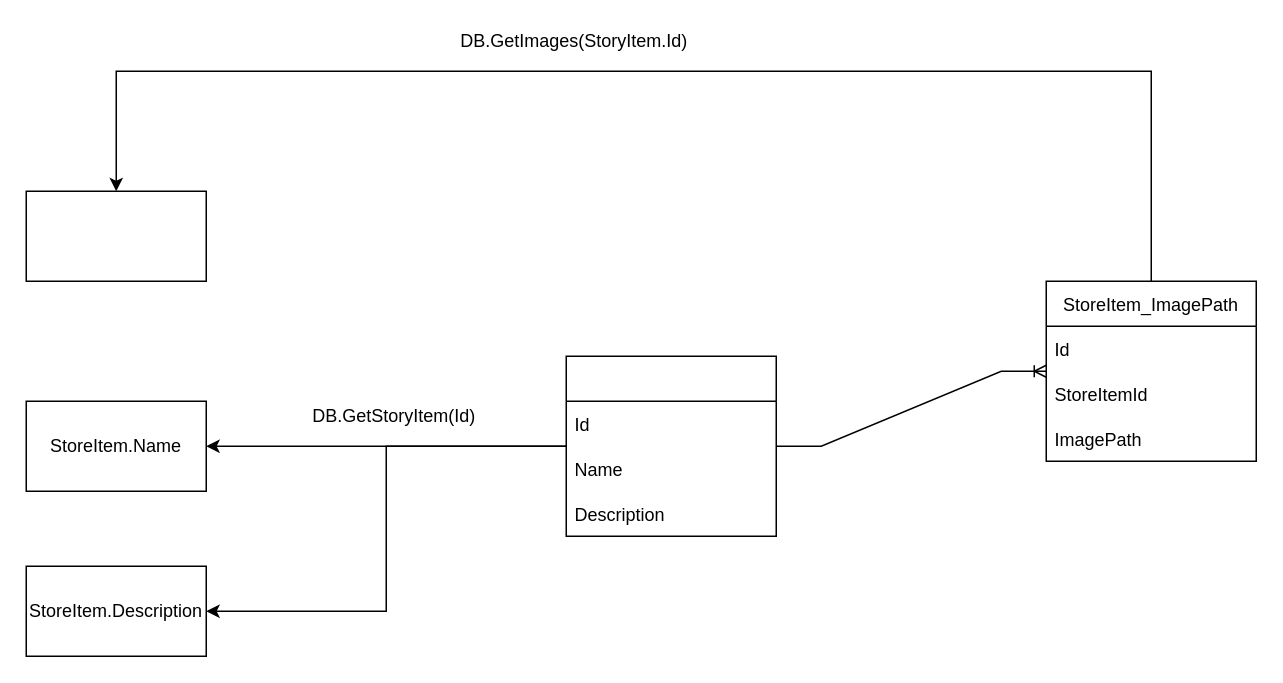
Image size: 1283x683. Some labels were removed from this diagram. The box of each missing label's shape, as (x1, y1, x2, y2) in pixels:
<StoreItem Gallerey>: (25, 190, 206, 281)
StoreItem: (565, 355, 776, 536)
